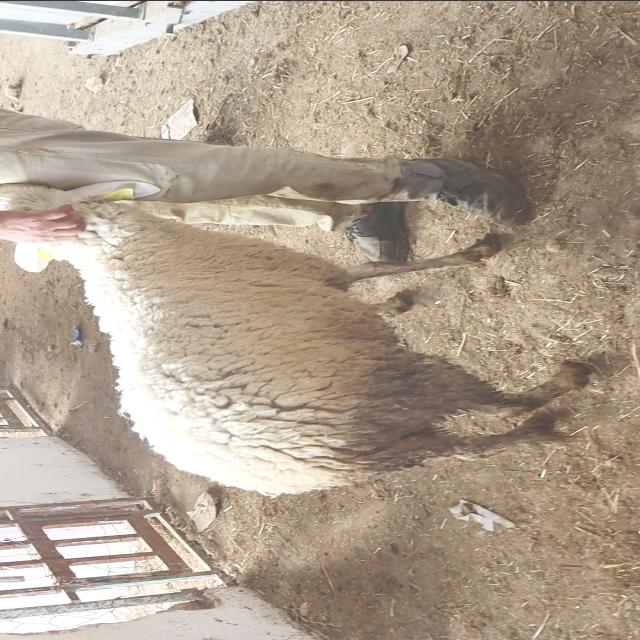Score_3: (0, 179, 591, 495)
